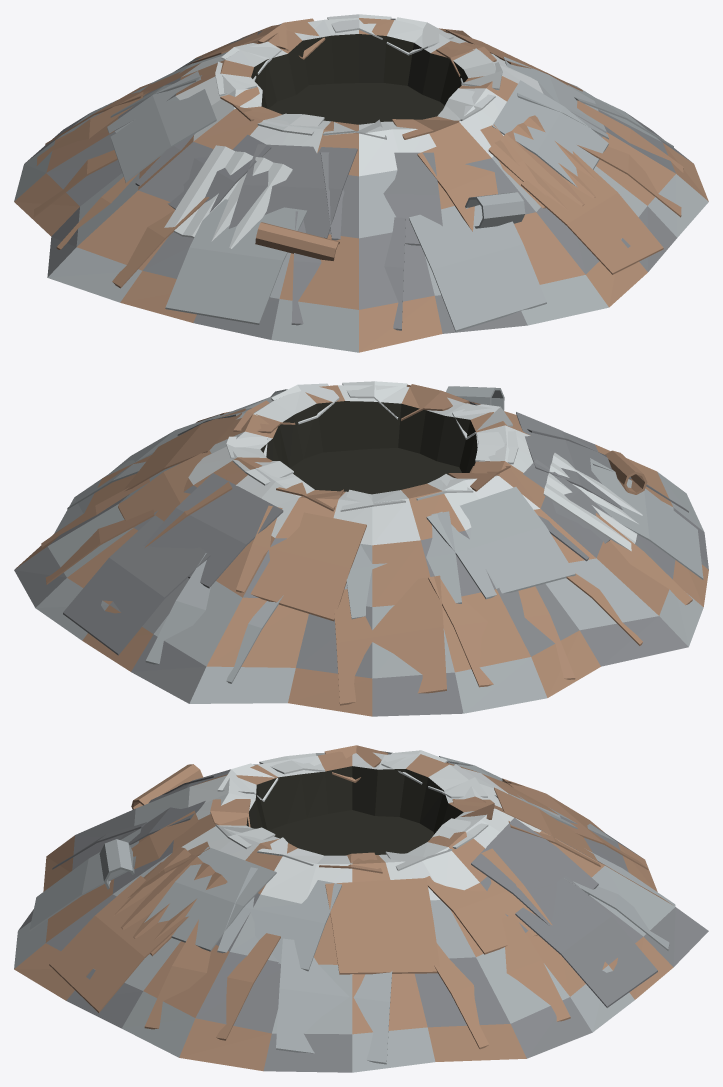
File: HotAirGeyser.fbx
3 views of the same model, one above another, from view 1: azimuth 30°, elevation 25°; view 2: azimuth 150°, elevation 25°; view 3: azimuth 270°, elevation 25° (orthographic). The views are drawn at different scales.
Parts seen in each view (by area): view 1: HotAirGeyser; view 2: HotAirGeyser; view 3: HotAirGeyser.
Boxes of the visible parts, x1,y1,x2,y2 form: HotAirGeyser: [14, 14, 708, 352]; HotAirGeyser: [14, 381, 708, 716]; HotAirGeyser: [14, 745, 708, 1072].
Bounding box in the file's own units: 986 × 205 × 992.
